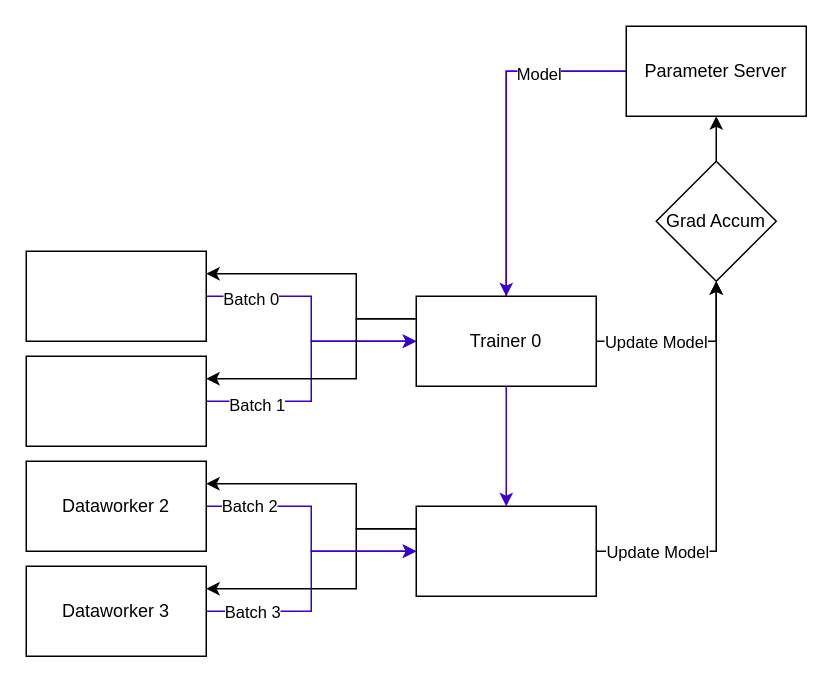
Some shapes in this 833 by 683 pixel diagram are drawn without their labels. The centre of each missing label's shape, as x and y in pixels:
"Dataworker 0" goes at (115,295).
"Dataworker 1" goes at (115,400).
"Trainer 1" goes at (505,550).
